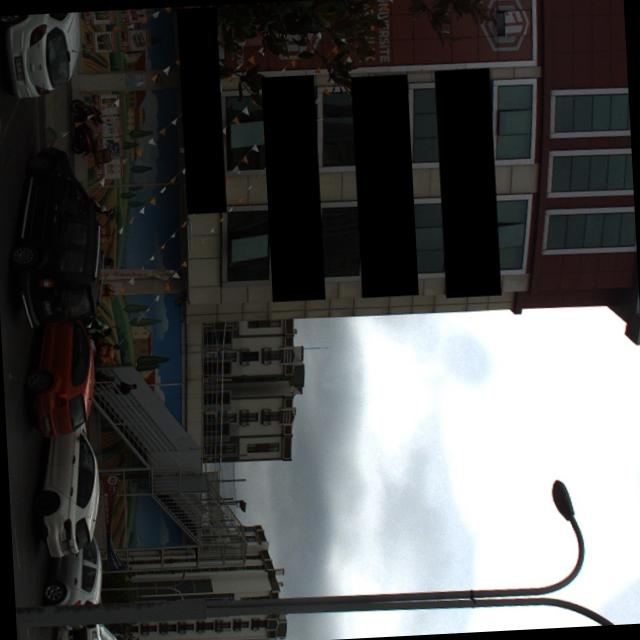SignStore: (445, 68, 490, 298), (361, 75, 406, 298), (271, 75, 313, 302), (179, 9, 219, 214)
